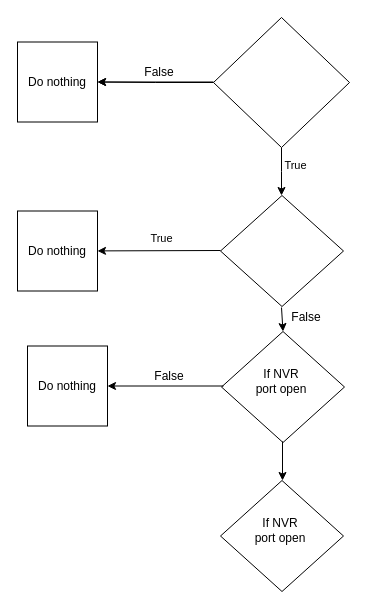
The diagram is 367 pixels wide and 609 high, and some of its shapes have lost their labels. The centre of each missing label's shape, as x and y in pixels:
"Has camera & NVR ports" goes at [281,82].
"If VH port open" goes at [282,250].
